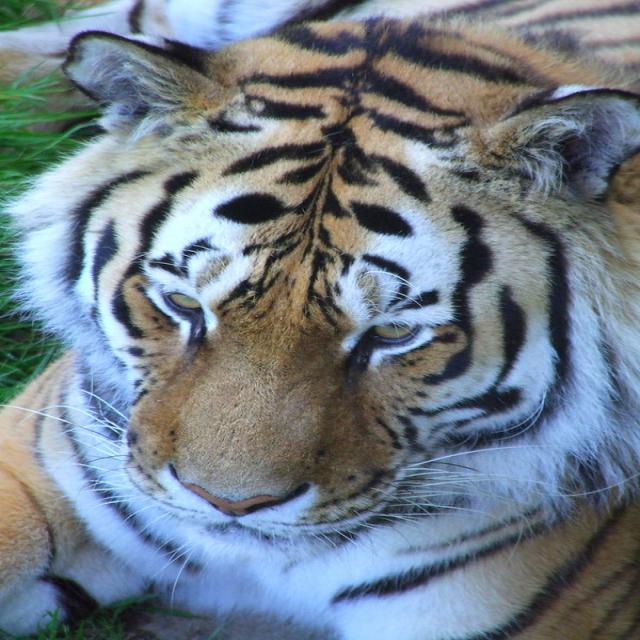Tiger: (3, 3, 636, 619)
